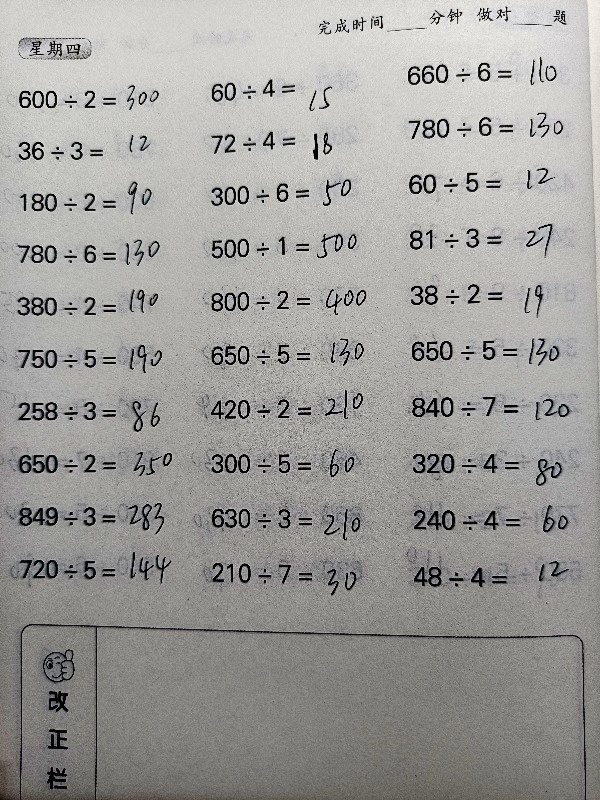equation: (401, 277, 585, 320), (403, 331, 583, 374), (9, 232, 189, 274), (202, 227, 382, 268), (10, 78, 190, 118), (405, 216, 561, 262), (8, 284, 188, 323), (405, 559, 585, 595), (203, 555, 383, 591), (405, 502, 585, 538), (404, 389, 584, 425), (203, 337, 383, 373), (400, 109, 580, 145), (11, 551, 191, 586), (203, 501, 383, 536), (11, 499, 191, 534), (405, 446, 585, 481), (203, 446, 383, 481), (202, 392, 382, 427), (202, 283, 382, 318), (202, 176, 382, 211), (399, 165, 579, 200), (398, 55, 578, 90), (10, 447, 190, 481), (11, 394, 191, 428), (11, 342, 191, 376), (10, 134, 190, 168), (204, 125, 384, 159), (202, 72, 382, 106), (13, 186, 193, 219)
